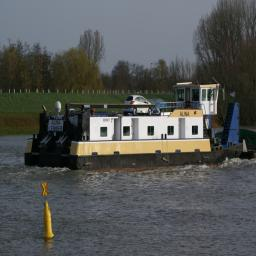tugboat: (22, 80, 245, 180)
